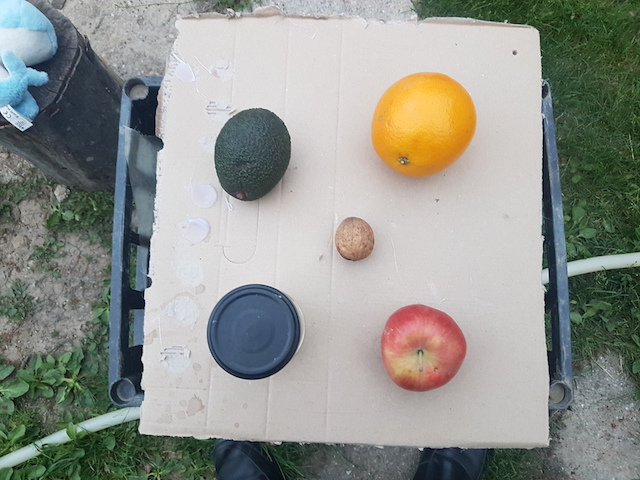apple: (380, 304, 469, 396)
avocado: (210, 107, 299, 203)
nut: (334, 214, 378, 261)
orange: (371, 70, 477, 182)
recipient: (204, 283, 298, 379)
